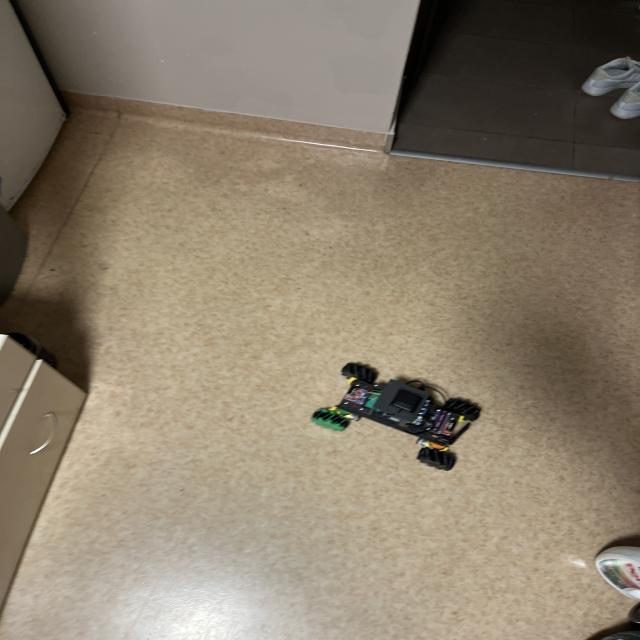robot: (312, 363, 481, 470)
